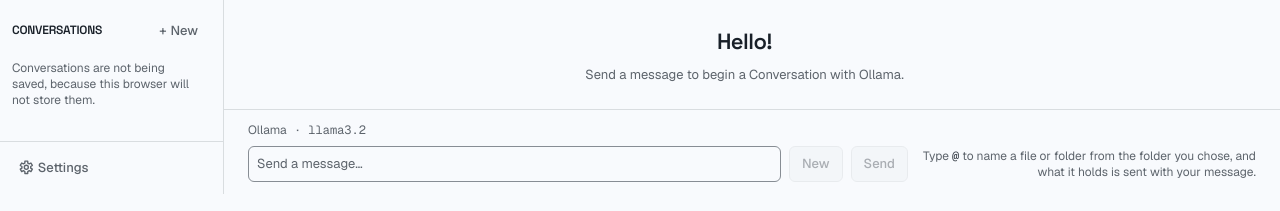
the Registry changing while the interface is open › reaches the chat header, which had kept showing the Endpoint it had before
In the dropdown with placeholder "Send a message…": (514,164) x1=248 y1=146 x2=781 y2=182, type "Hello."
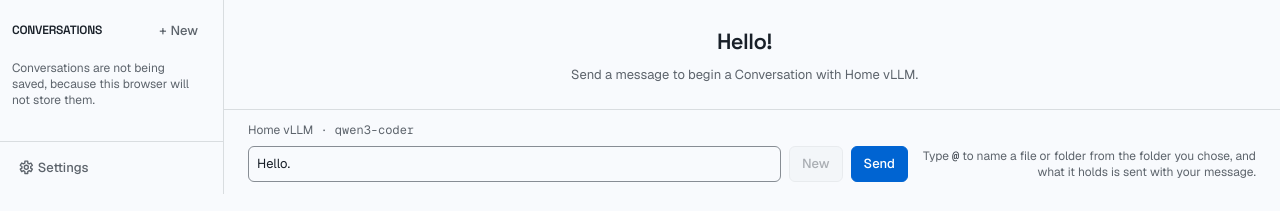
Check: the element showing "Home vLLM · qwen3-coder" is shown, box x1=248 y1=122 x2=414 y2=138
